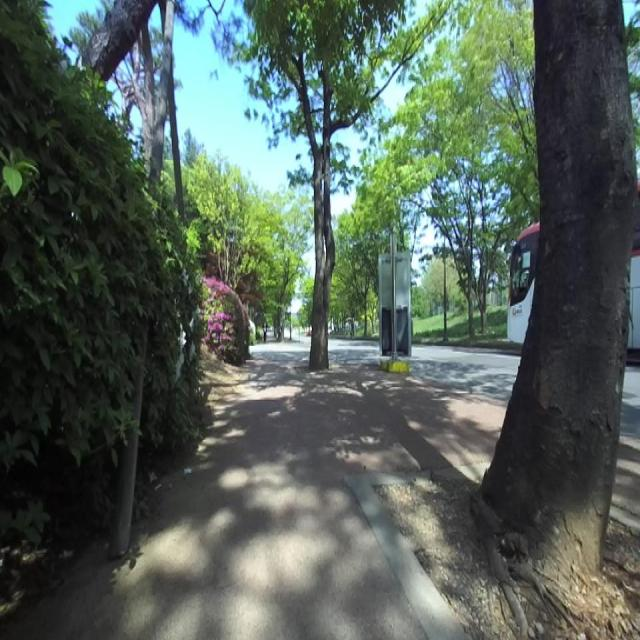sidewalk: (5, 349, 506, 640)
